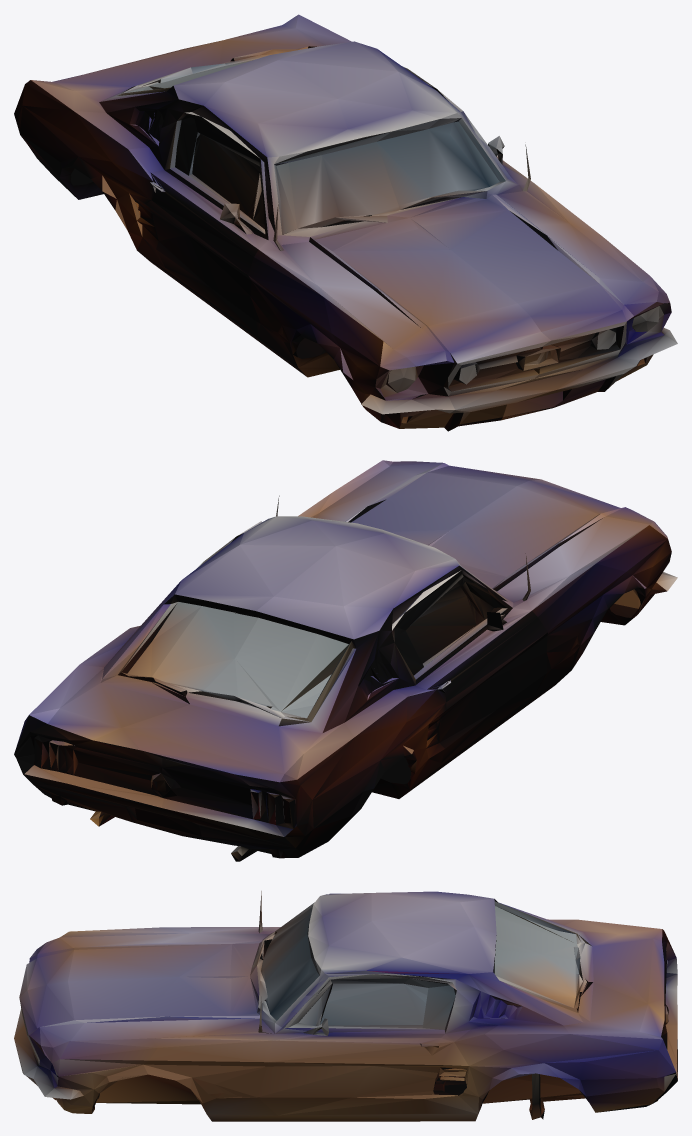
The model's file is ford_mustang_1967.glb.
3 renders of one model, top to bottom at view 1: azimuth 30°, elevation 25°; view 2: azimuth 150°, elevation 25°; view 3: azimuth 270°, elevation 25°, orthographic. The views are drawn at different scales.
Visible parts, largest first — view 1: Wreck_ford_mustang_1967; view 2: Wreck_ford_mustang_1967; view 3: Wreck_ford_mustang_1967.
Part boxes in pixels (<box>): Wreck_ford_mustang_1967: <box>14,14,677,431</box>; Wreck_ford_mustang_1967: <box>14,460,677,861</box>; Wreck_ford_mustang_1967: <box>14,891,677,1121</box>.
Bounding box in the file's own units: 2.11 × 1.23 × 4.61.
